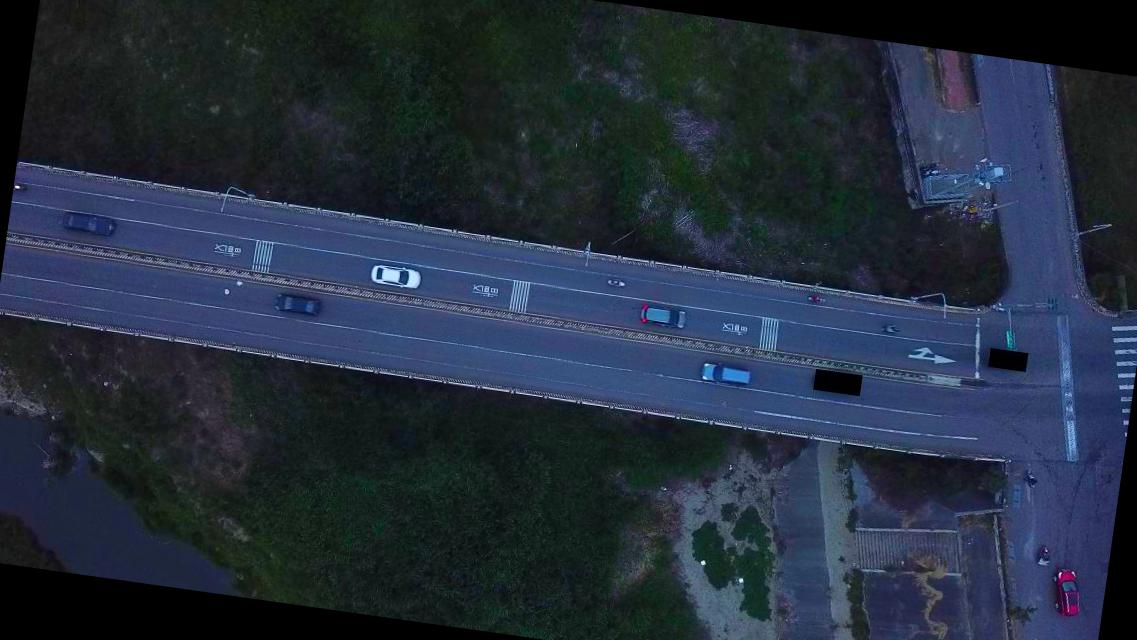vehicle: (1046, 566, 1084, 619), (368, 262, 423, 292), (698, 360, 752, 389), (61, 210, 117, 237), (639, 302, 687, 331), (274, 291, 322, 317)
